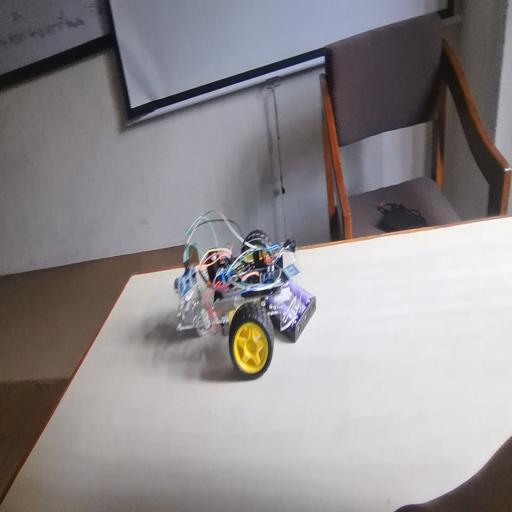car: (181, 183, 319, 410)
